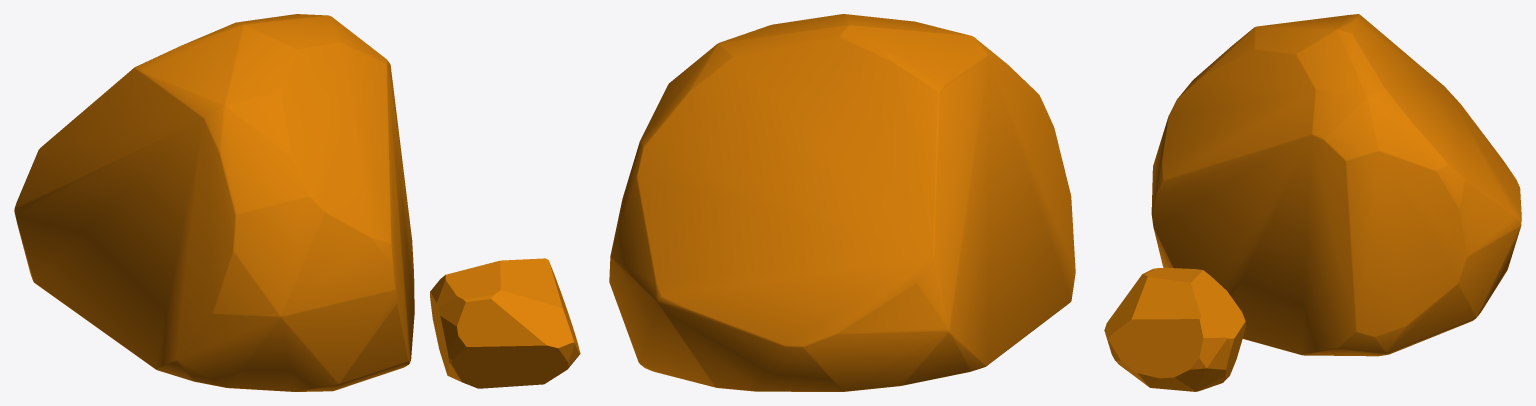
Rendered from rock2.fbx.
3 renders of one model, left to right at view 1: azimuth 30°, elevation 25°; view 2: azimuth 150°, elevation 25°; view 3: azimuth 270°, elevation 25°, orthographic. The views are drawn at different scales.
Parts seen in each view (by area): view 1: Icosphere.001, Icosphere.010; view 2: Icosphere.001; view 3: Icosphere.001, Icosphere.010.
Boxes of the visible parts, x1,y1,x2,y2 form: Icosphere.001: (14, 14, 414, 391); Icosphere.010: (430, 258, 580, 388); Icosphere.001: (609, 14, 1075, 391); Icosphere.001: (1151, 14, 1521, 356); Icosphere.010: (1104, 267, 1245, 391).
Size of the model in its own units: 711 by 545 by 742.
